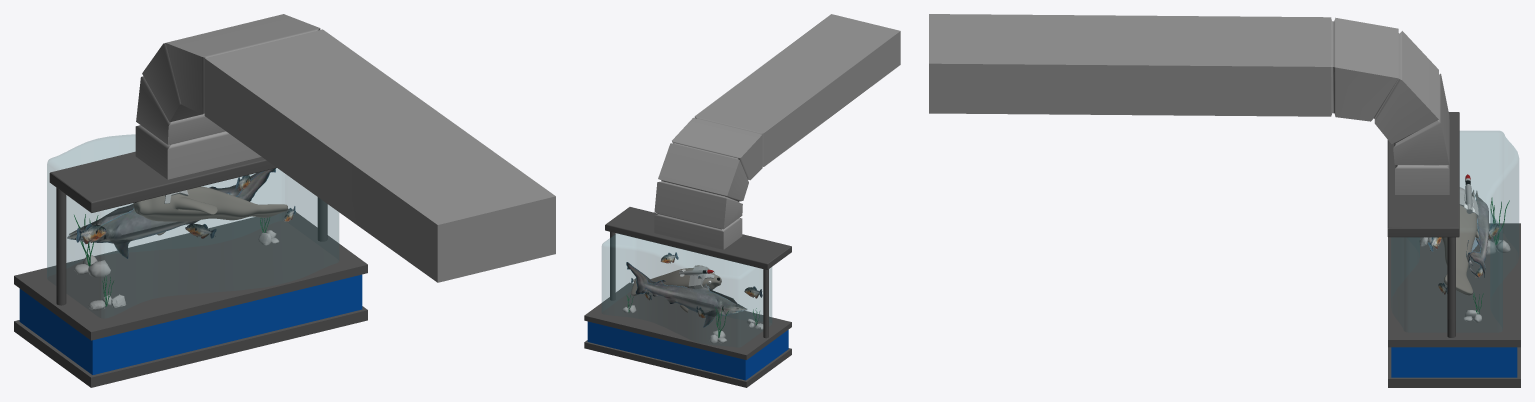
File: aquarium.fbx
3 renders of one model, left to right at view 1: azimuth 30°, elevation 25°; view 2: azimuth 150°, elevation 25°; view 3: azimuth 270°, elevation 25°, orthographic. The views are drawn at different scales.
Visible parts, largest first — view 1: structure, manatee3, shark; view 2: structure, shark, manatee3; view 3: structure, manatee3, shark.
Boxes of the visible parts, x1=… form: structure: x1=14, y1=14, x2=555, y2=387; manatee3: x1=133, y1=186, x2=287, y2=235; shark: x1=67, y1=168, x2=275, y2=258; structure: x1=584, y1=14, x2=900, y2=387; shark: x1=626, y1=262, x2=747, y2=327; manatee3: x1=631, y1=265, x2=721, y2=312; structure: x1=929, y1=14, x2=1520, y2=387; manatee3: x1=1441, y1=174, x2=1478, y2=295; shark: x1=1466, y1=189, x2=1488, y2=278.
Size of the model in its own units: 4.15 by 4.84 by 8.91.
14 materials, 2 textured.
